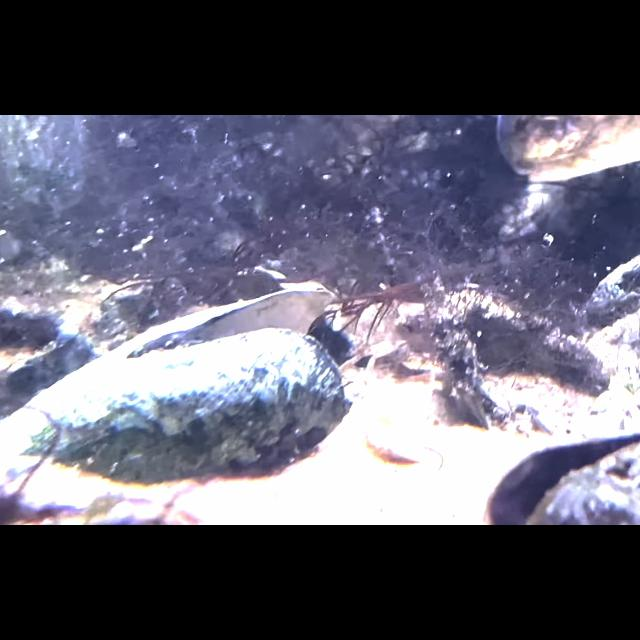Oyster-Closed: (584, 255, 640, 331)
Oyster-Open: (19, 279, 347, 486), (485, 432, 640, 525)
